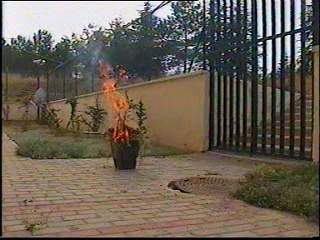smoke: (70, 29, 113, 70)
